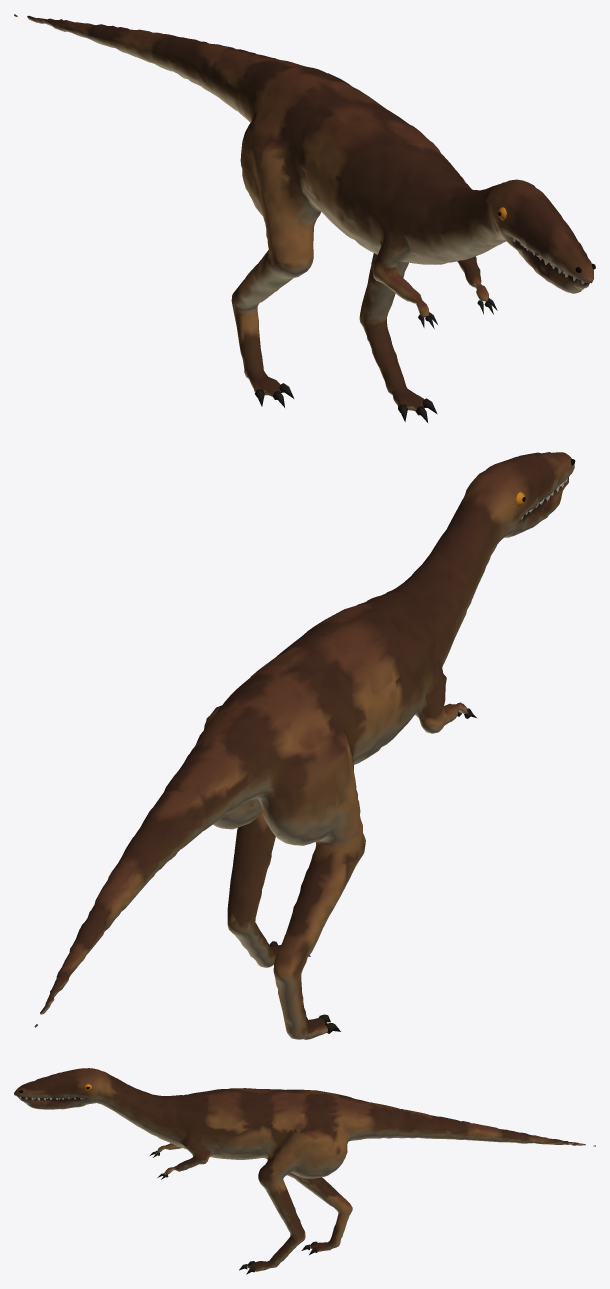
Rendered from Herrerasaurus.fbx.
The picture shows the model from 3 angles, top to bottom: view 1: azimuth 30°, elevation 25°; view 2: azimuth 150°, elevation 25°; view 3: azimuth 270°, elevation 25°; orthographic projection. The views are drawn at different scales.
Visible parts, largest first — view 1: Herrerasaurus; view 2: Herrerasaurus; view 3: Herrerasaurus.
Part boxes in pixels (x1,y1,x2,y2): Herrerasaurus: (14, 14, 595, 422); Herrerasaurus: (34, 452, 575, 1039); Herrerasaurus: (14, 1068, 595, 1274).
Size of the model in its own units: 0.2771 by 0.7318 by 2.
